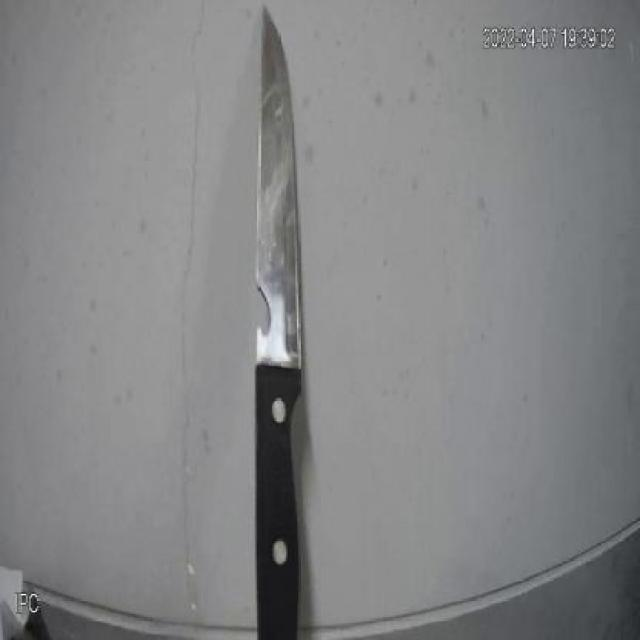-: (237, 11, 323, 626)
